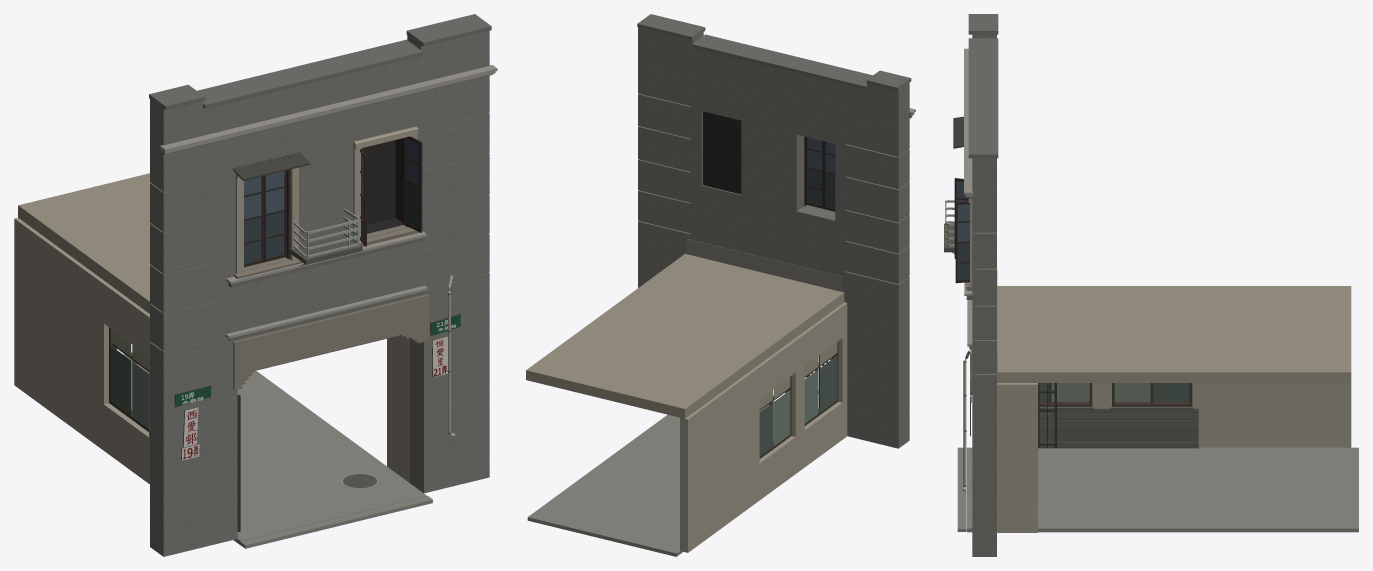
The model's file is huangpu-xiai-hengai-common-lane-gate-lod.glb.
The picture shows the model from 3 angles, left to right: view 1: azimuth 30°, elevation 25°; view 2: azimuth 150°, elevation 25°; view 3: azimuth 270°, elevation 25°; orthographic projection. The views are drawn at different scales.
Visible parts, largest first — view 1: 永嘉路西爱村与恒爱里共用弄口; view 2: 永嘉路西爱村与恒爱里共用弄口; view 3: 永嘉路西爱村与恒爱里共用弄口.
Boxes of the visible parts, x1=… form: 永嘉路西爱村与恒爱里共用弄口: x1=14, y1=14, x2=497, y2=556; 永嘉路西爱村与恒爱里共用弄口: x1=526, y1=14, x2=915, y2=556; 永嘉路西爱村与恒爱里共用弄口: x1=944, y1=14, x2=1358, y2=556.
Bounding box in the file's own units: 6.18 × 8.13 × 7.53.
Materials: 35 (1 with a texture image).
